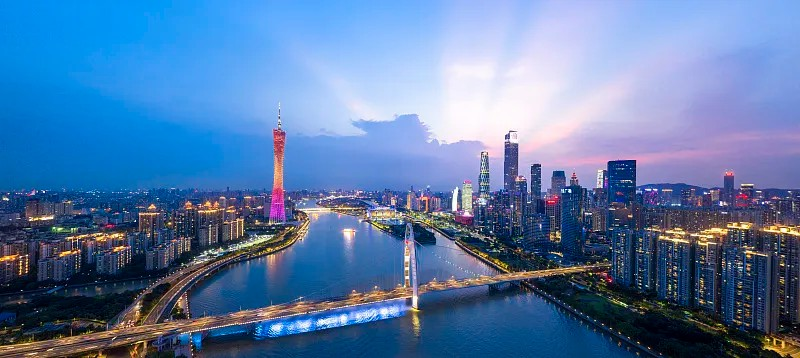Canton: (267, 101, 287, 224)
